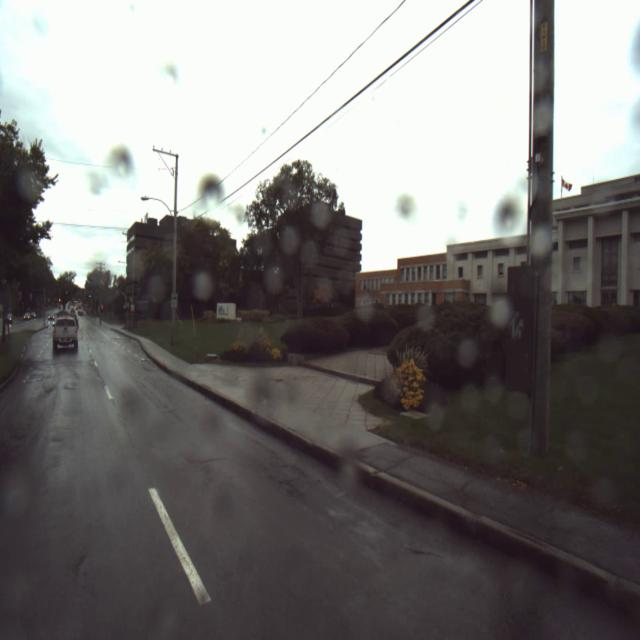car: (52, 316, 80, 354)
